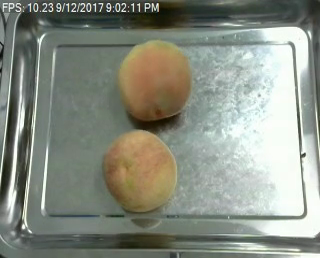Peach: (102, 128, 177, 212), (118, 38, 190, 121)
